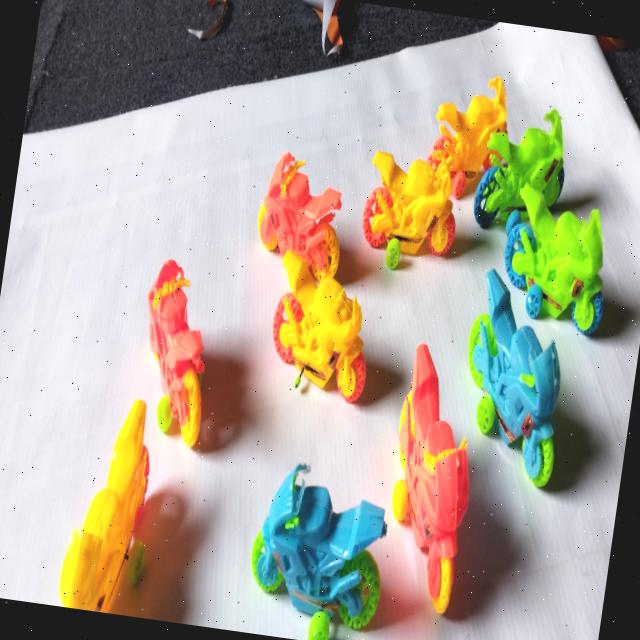bikes: (252, 465, 387, 640), (392, 344, 469, 613), (468, 269, 560, 487), (60, 399, 150, 613), (505, 187, 603, 335), (273, 251, 366, 402), (363, 150, 455, 269), (148, 260, 205, 447), (474, 110, 564, 228), (259, 152, 342, 276), (427, 77, 507, 199)
others: (23, 0, 496, 133), (608, 42, 640, 128), (303, 0, 343, 56), (187, 0, 227, 40)
